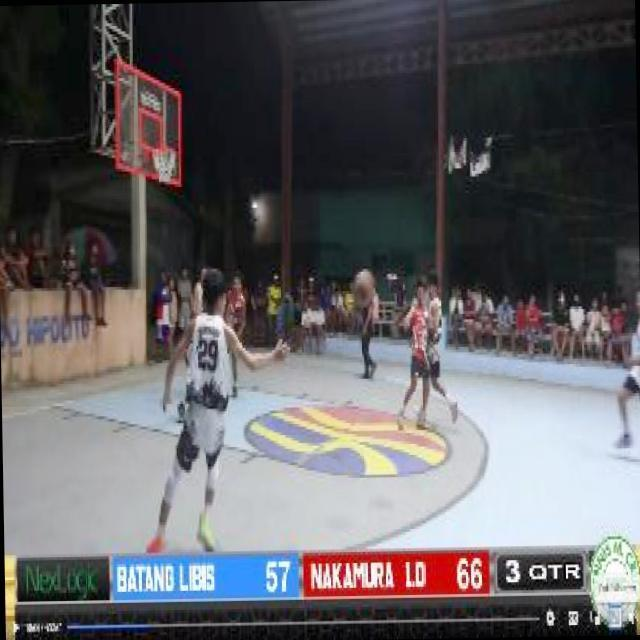ball: (352, 264, 376, 311)
